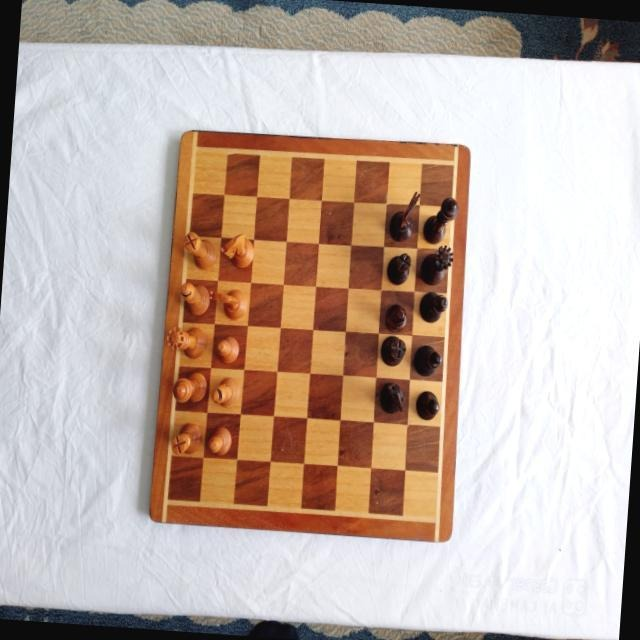black-bishop: (417, 289, 449, 325), (412, 342, 444, 377)
black-king: (421, 195, 460, 245)
black-knight: (387, 188, 421, 242), (377, 380, 407, 415)
black-pawn: (415, 389, 441, 421), (383, 302, 408, 334)
black-queen: (418, 241, 454, 287)
black-rook: (379, 333, 407, 367), (385, 250, 411, 286)
white-bishop: (177, 280, 210, 316), (210, 375, 241, 409)
white-king: (172, 371, 208, 405)
white-knight: (219, 231, 255, 269), (208, 286, 247, 321)
white-pawn: (207, 424, 233, 458), (214, 334, 239, 364)
white-queen: (165, 323, 207, 361)
white-rook: (181, 230, 218, 270), (170, 419, 202, 457)
